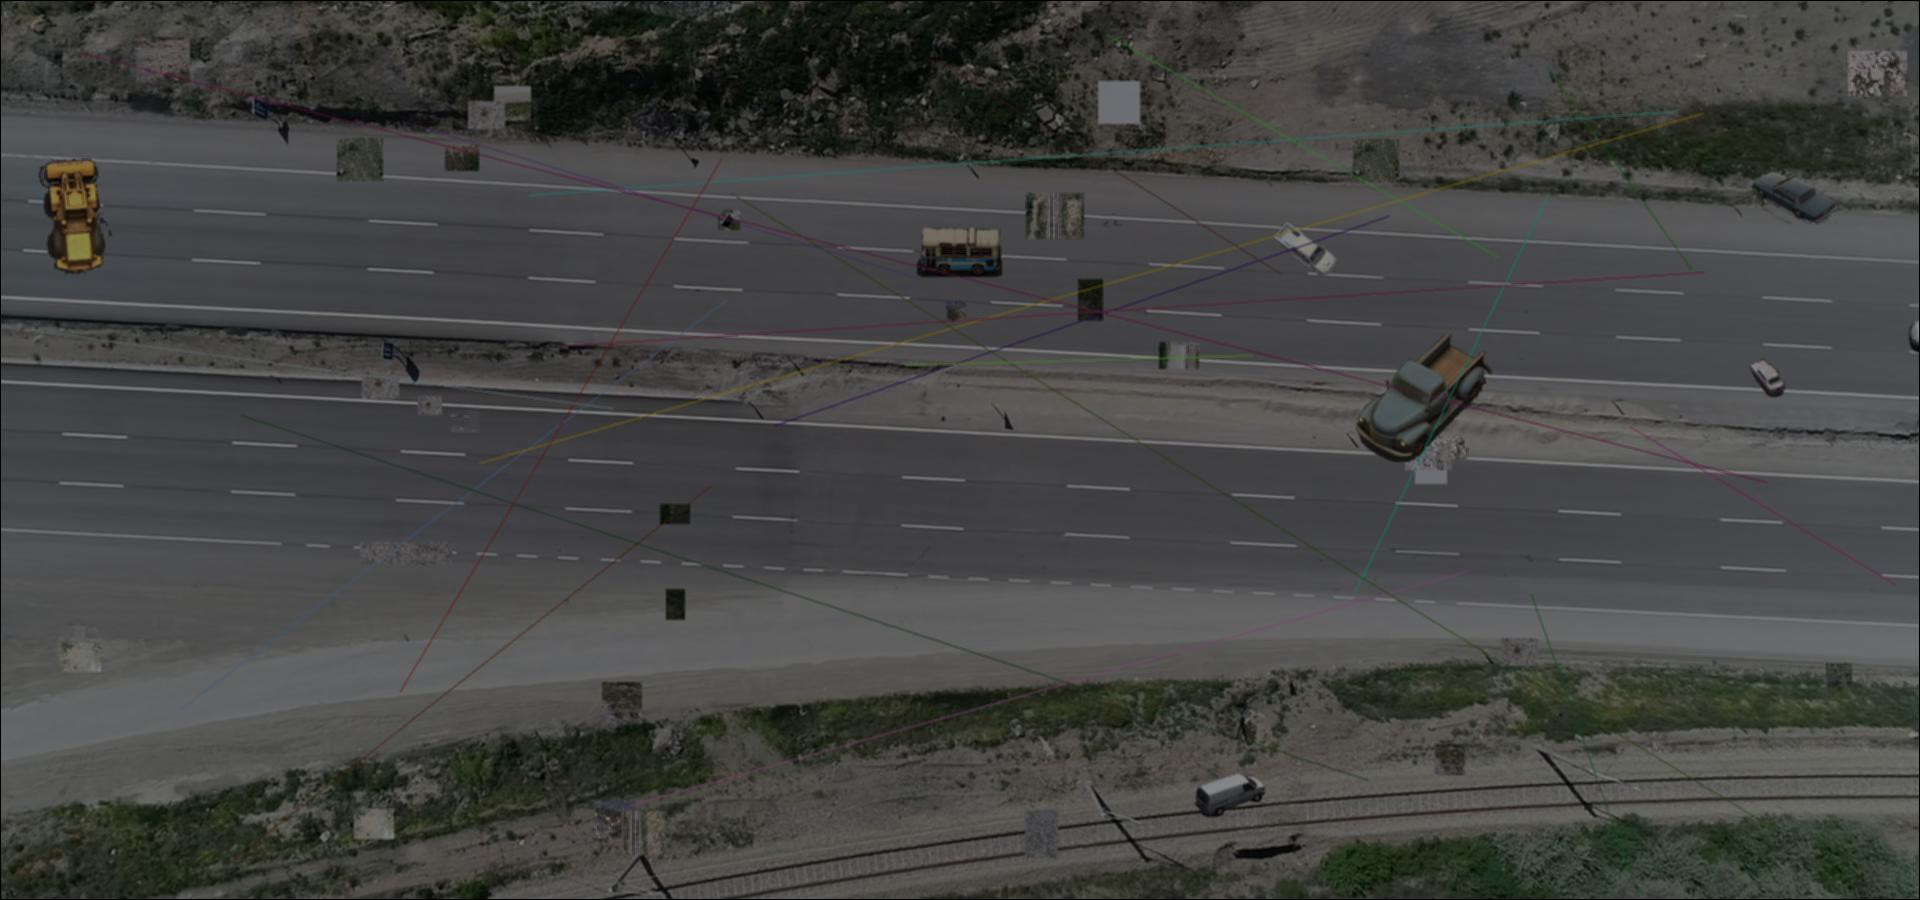arac: (1356, 334, 1493, 462), (36, 156, 121, 279), (1749, 171, 1837, 224), (916, 227, 1002, 277), (1270, 220, 1340, 276), (1195, 771, 1265, 817), (1747, 358, 1787, 397)
